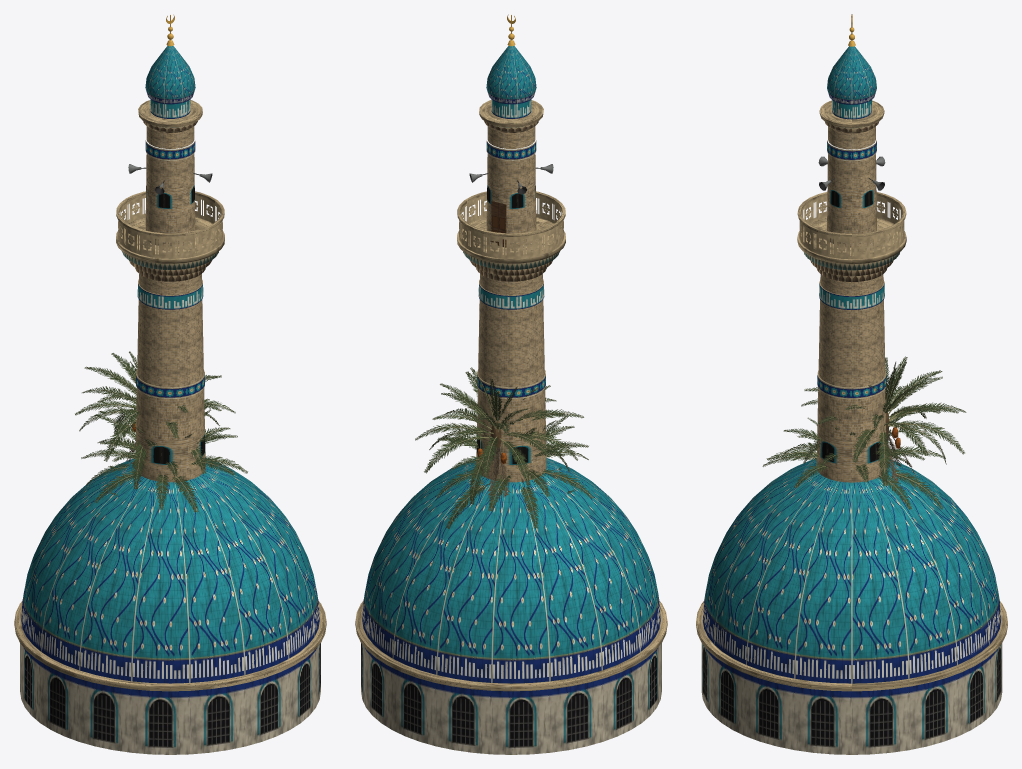
Rendered from props.glb.
3 views of the same model, side by side, from view 1: azimuth 30°, elevation 25°; view 2: azimuth 150°, elevation 25°; view 3: azimuth 270°, elevation 25° (orthographic).
Parts seen in each view (by area): view 1: dome_large, minaret, palm_c, palm_a; view 2: dome_large, minaret, palm_c, palm_a; view 3: dome_large, minaret, palm_c, palm_a.
Part boxes in pixels (x1,y1,x2,y2): dome_large: [14, 458, 326, 754]; minaret: [116, 14, 224, 482]; palm_c: [75, 351, 235, 489]; palm_a: [81, 397, 247, 512]; dome_large: [355, 458, 667, 754]; minaret: [457, 14, 565, 482]; palm_c: [415, 367, 583, 507]; palm_a: [436, 407, 593, 528]; dome_large: [696, 458, 1007, 754]; minaret: [797, 14, 906, 482]; palm_c: [801, 356, 966, 485]; palm_a: [762, 410, 945, 509].
Bounding box in the file's own units: 12.44 × 29.94 × 12.44.
Materials: 5 (5 with a texture image).
